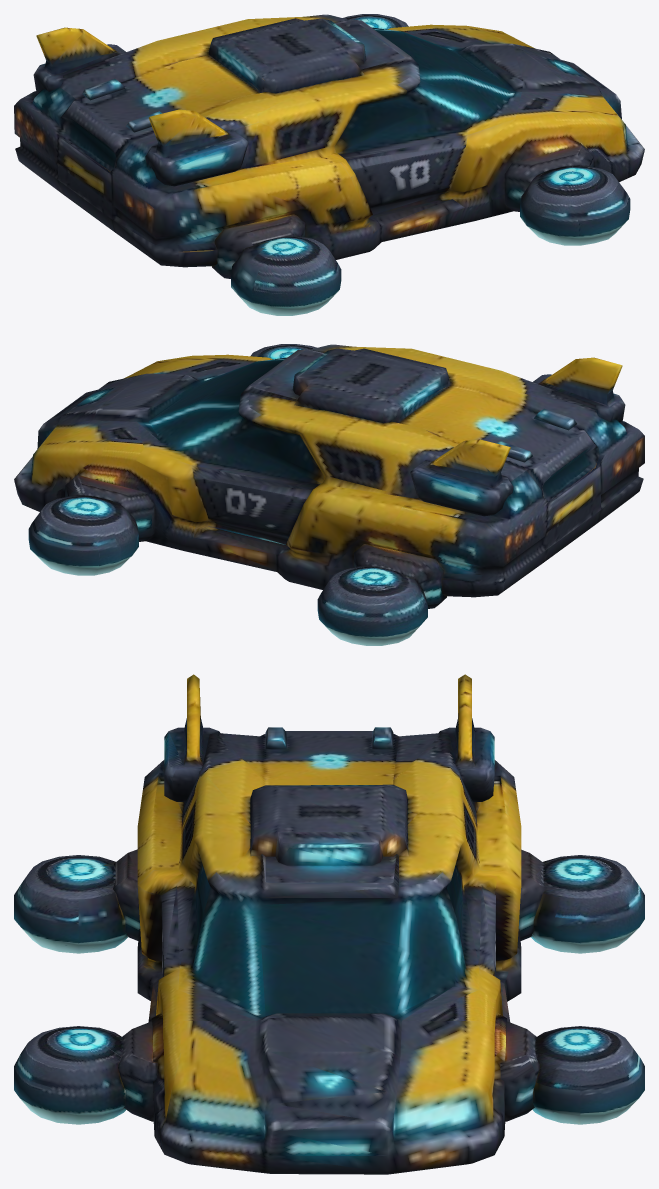
File: flying_car_02.glb
The picture shows the model from 3 angles, top to bottom: view 1: azimuth 30°, elevation 25°; view 2: azimuth 150°, elevation 25°; view 3: azimuth 270°, elevation 25°; orthographic projection. The views are drawn at different scales.
Visible parts, largest first — view 1: tripo_node_206b70bf-c2fd-4535-bdb2-49adfca85455; view 2: tripo_node_206b70bf-c2fd-4535-bdb2-49adfca85455; view 3: tripo_node_206b70bf-c2fd-4535-bdb2-49adfca85455.
Part boxes in pixels (x1,y1,x2,y2): tripo_node_206b70bf-c2fd-4535-bdb2-49adfca85455: (14,14,644,315); tripo_node_206b70bf-c2fd-4535-bdb2-49adfca85455: (14,344,644,645); tripo_node_206b70bf-c2fd-4535-bdb2-49adfca85455: (14,674,644,1174).
Size of the model in its own units: 0.998 by 0.3145 by 0.877.
1 material, 1 textured.
